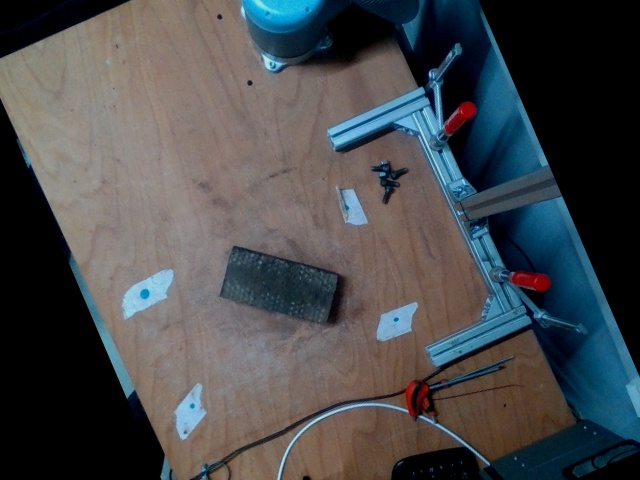brick: (219, 250, 338, 325)
